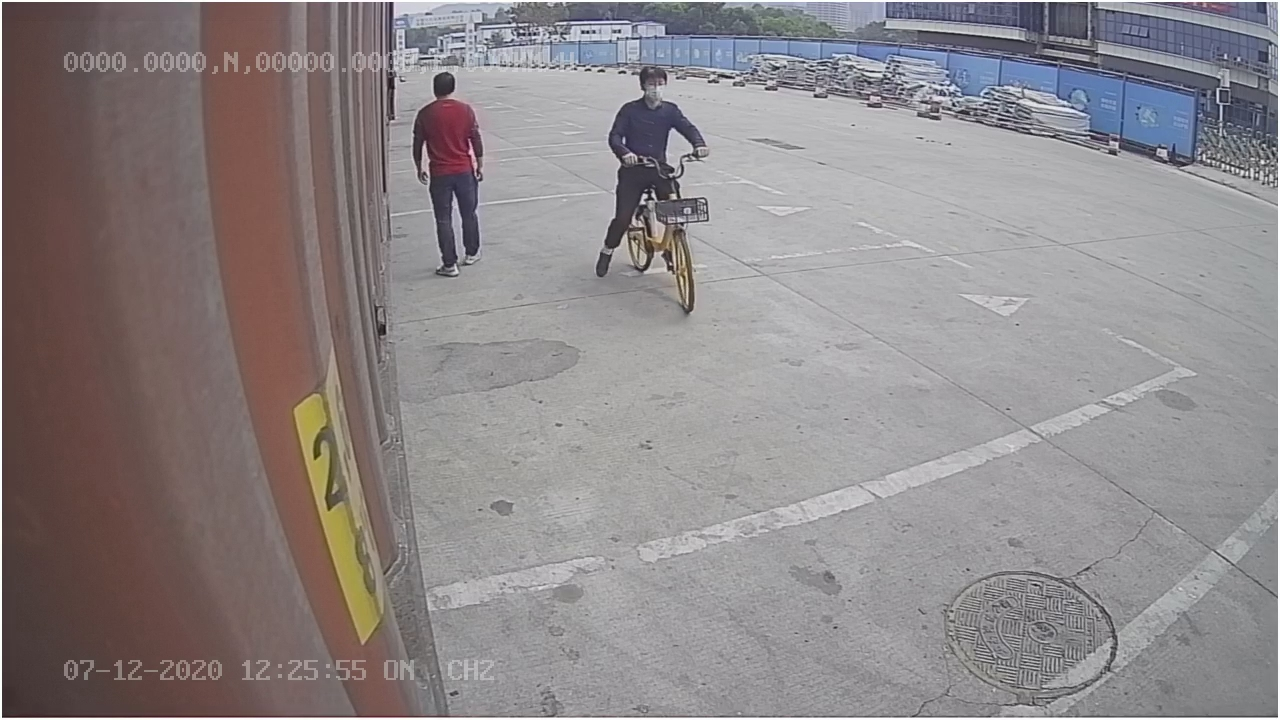person: (407, 69, 490, 282)
